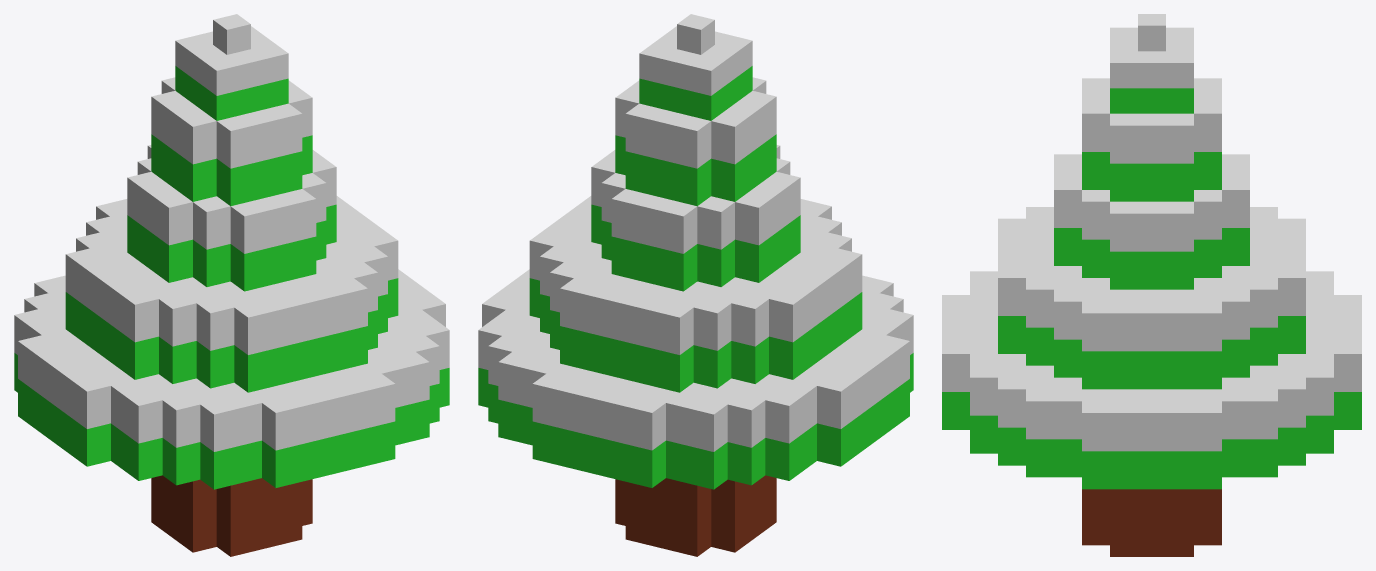
Rendered from Fat_Tree_Snow.fbx.
3 renders of one model, left to right at view 1: azimuth 30°, elevation 25°; view 2: azimuth 150°, elevation 25°; view 3: azimuth 270°, elevation 25°, orthographic.
Visible parts, largest first — view 1: fat tree; view 2: fat tree; view 3: fat tree.
Boxes of the visible parts, x1,y1,x2,y2 form: fat tree: [14, 14, 449, 556]; fat tree: [478, 14, 913, 556]; fat tree: [942, 14, 1361, 556].
Size of the model in its own units: 76.7 by 102 by 76.7.
